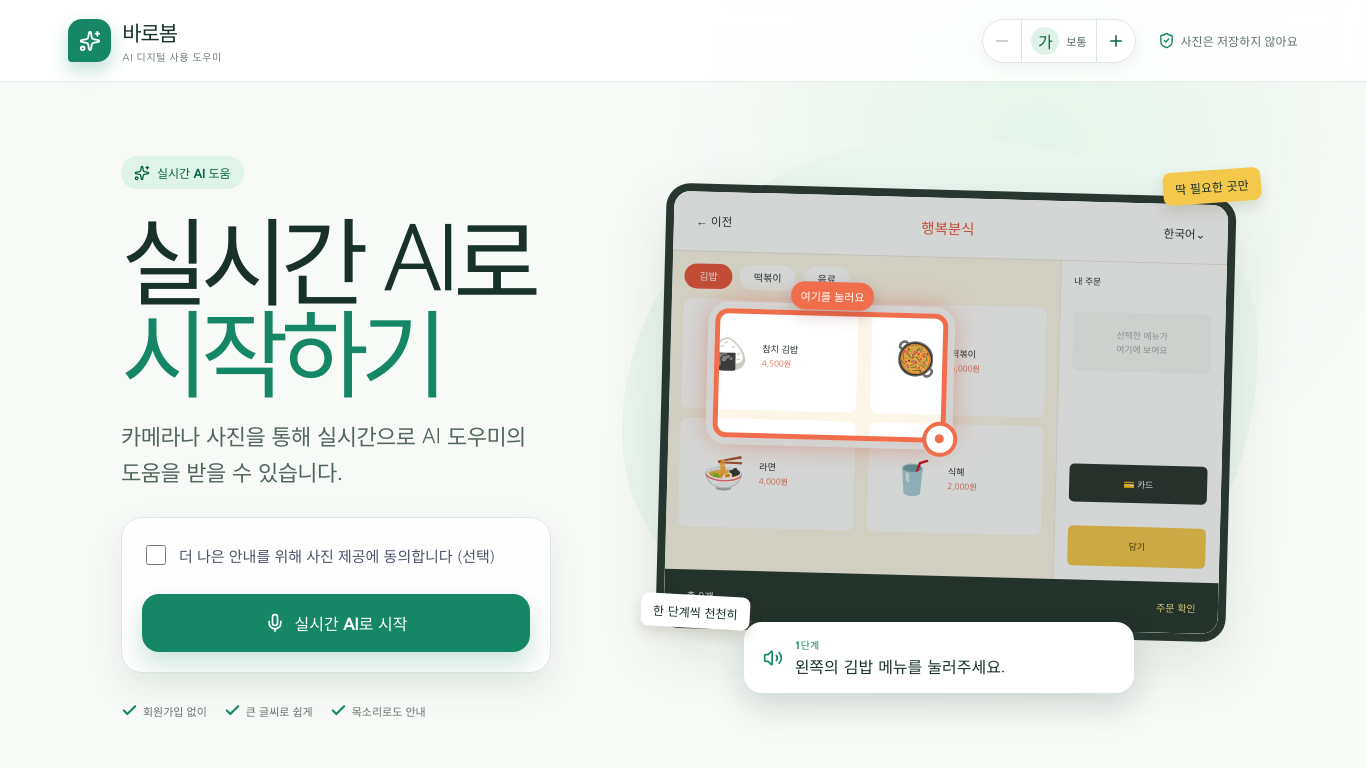
실시간 AI로 시작을 클릭하면 방식 선택 박스가 나타난다
Click the button "실시간 AI로 시작".
click(336, 623)  # box x1=142 y1=594 x2=530 y2=652
(page scrolled)
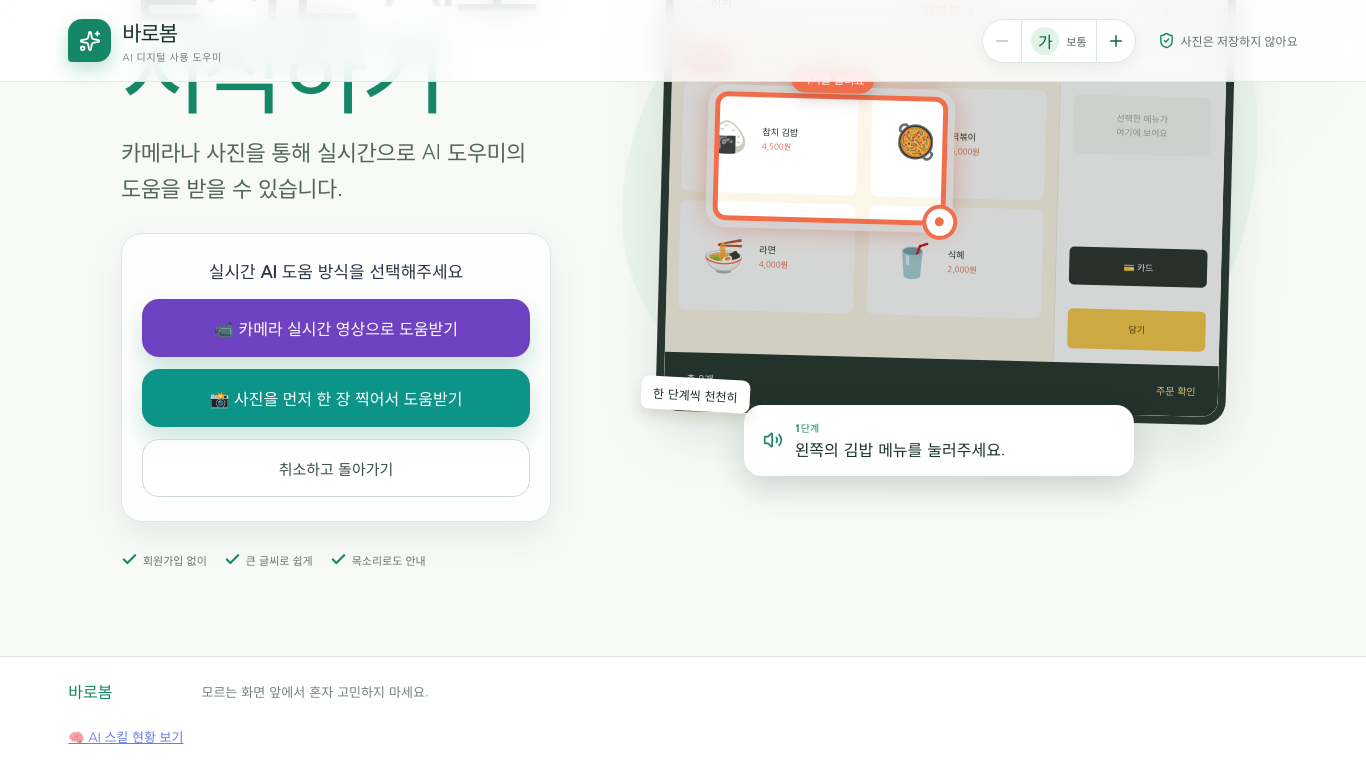
Now the heading "실시간 AI 도움 방식을 선택해주세요" is shown, box x1=209 y1=264 x2=463 y2=281
Now the button "📹 카메라 실시간 영상으로 도움받기" is shown, box x1=142 y1=299 x2=530 y2=357
Now the button "📸 사진을 먼저 한 장 찍어서 도움받기" is shown, box x1=142 y1=369 x2=530 y2=427
